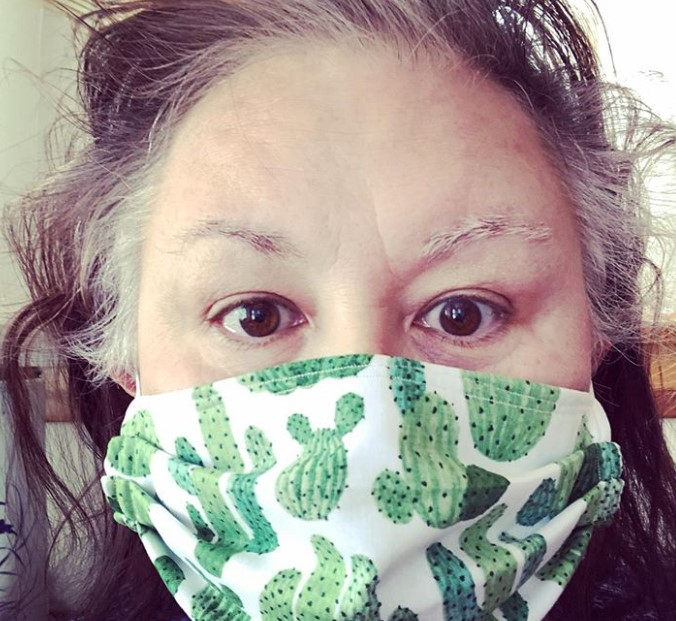face_with_mask: (52, 1, 638, 621)
